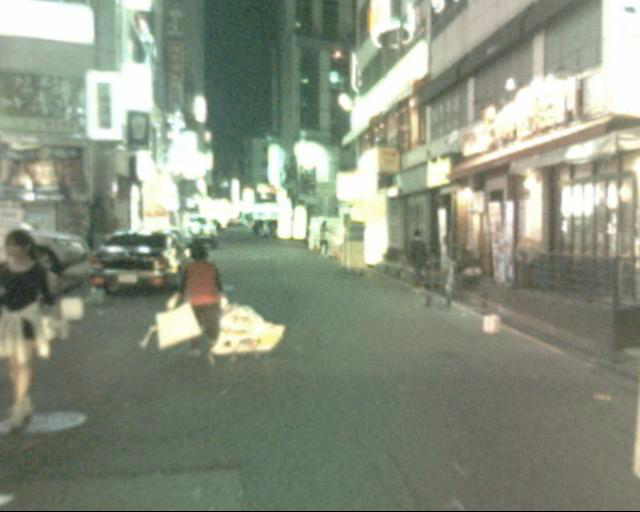person: (6, 230, 58, 428), (178, 242, 222, 356), (407, 228, 427, 288)
